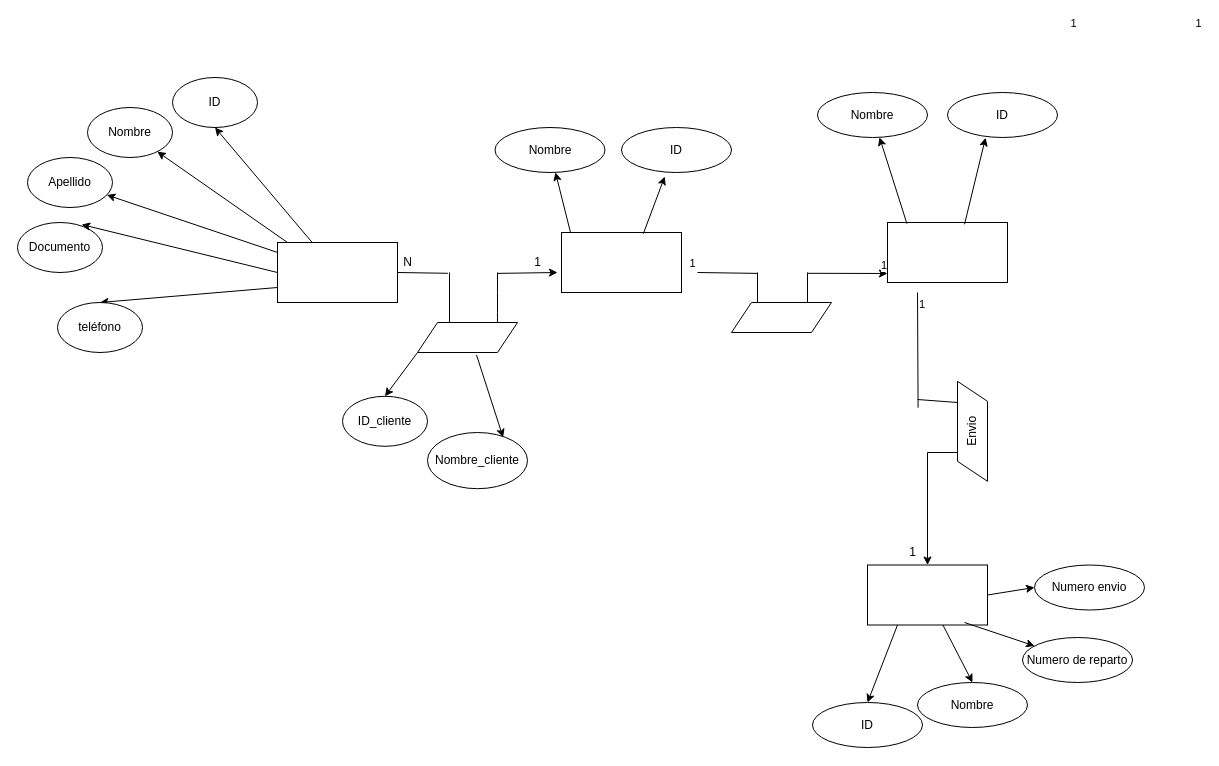
The diagram is 1219 pixels wide and 766 high, and some of its shapes have lost their labels. The shapes that lost their labels are listed below. From the top down, each one's centre as x and y in pixels, then its label:
At (x=337, y=272): "Cliente".
At (x=621, y=262): "Recepcionista".
At (x=947, y=252): "Encargado".
At (x=467, y=337): "Paquete".
At (x=781, y=317): "Pendientes".
At (x=927, y=594): "Repartido".
